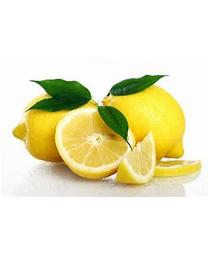lemon: (12, 92, 103, 164), (104, 83, 187, 158), (55, 106, 136, 181), (114, 130, 158, 184)
